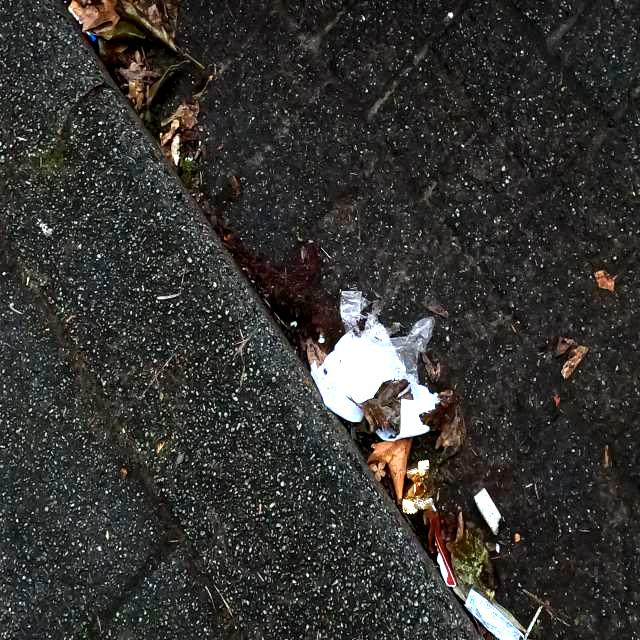Plastic: (464, 584, 524, 638), (400, 460, 438, 514), (433, 528, 459, 590)
